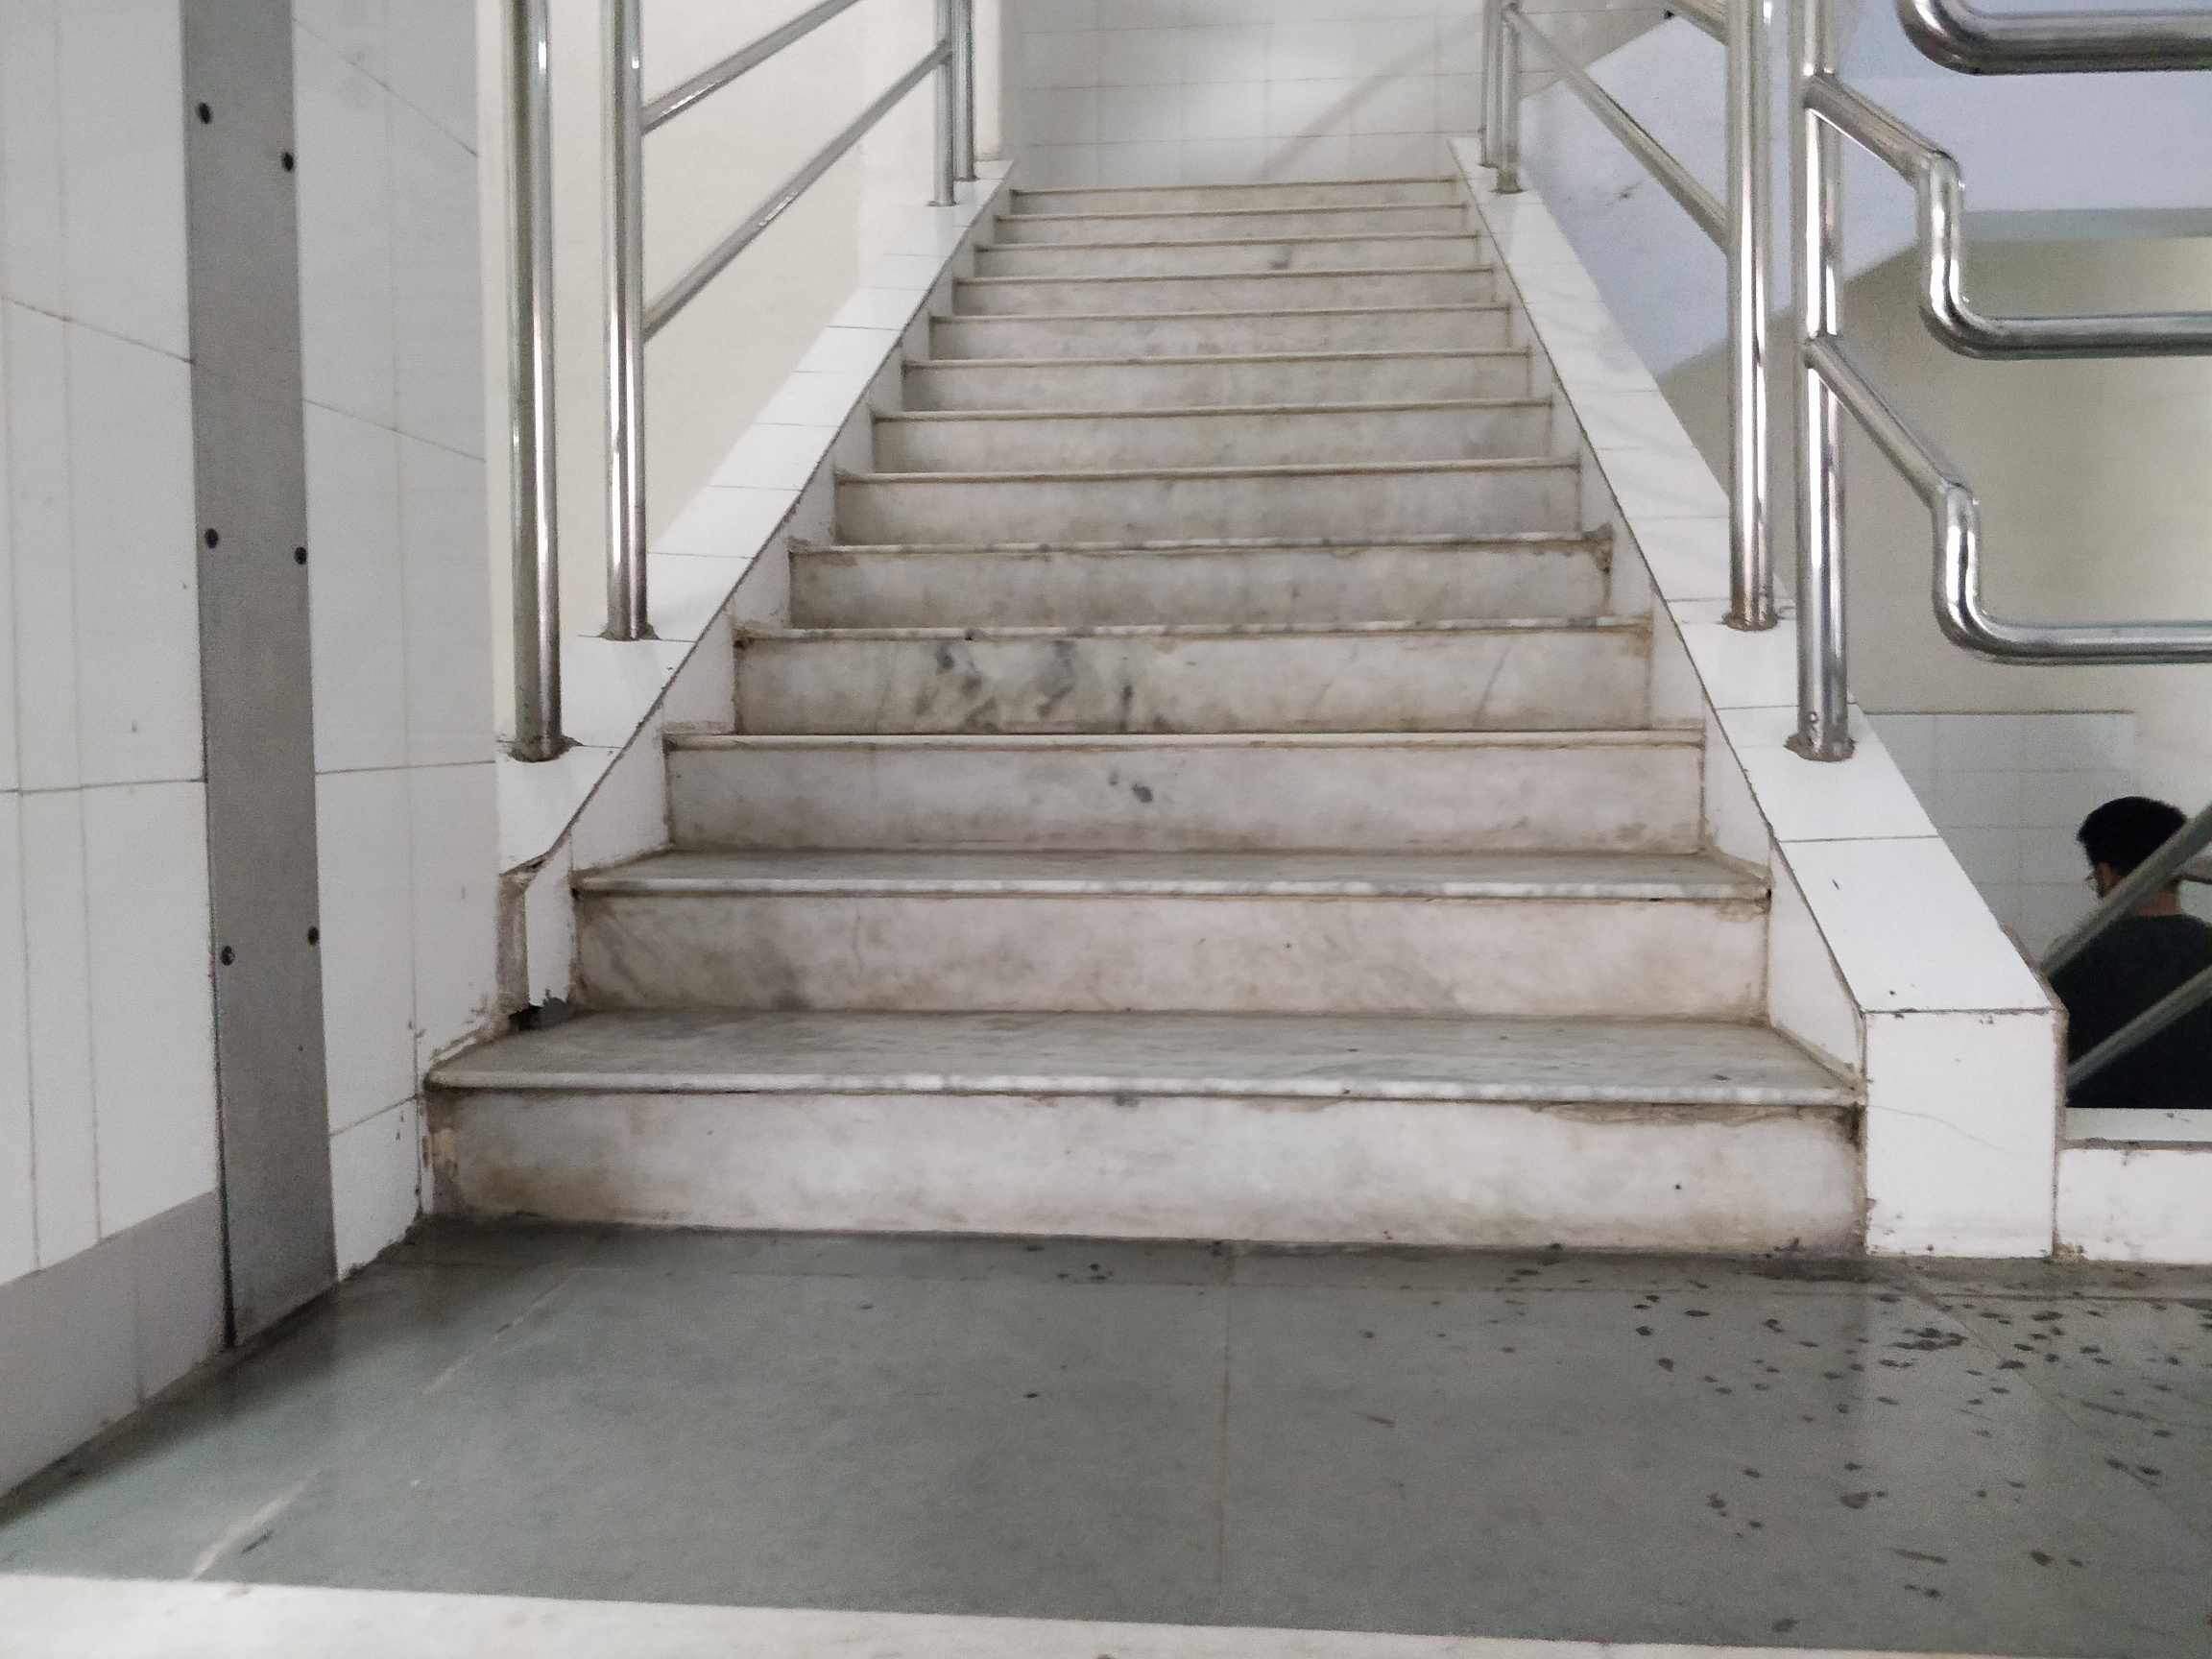stairs_up: (472, 176, 1898, 1305)
